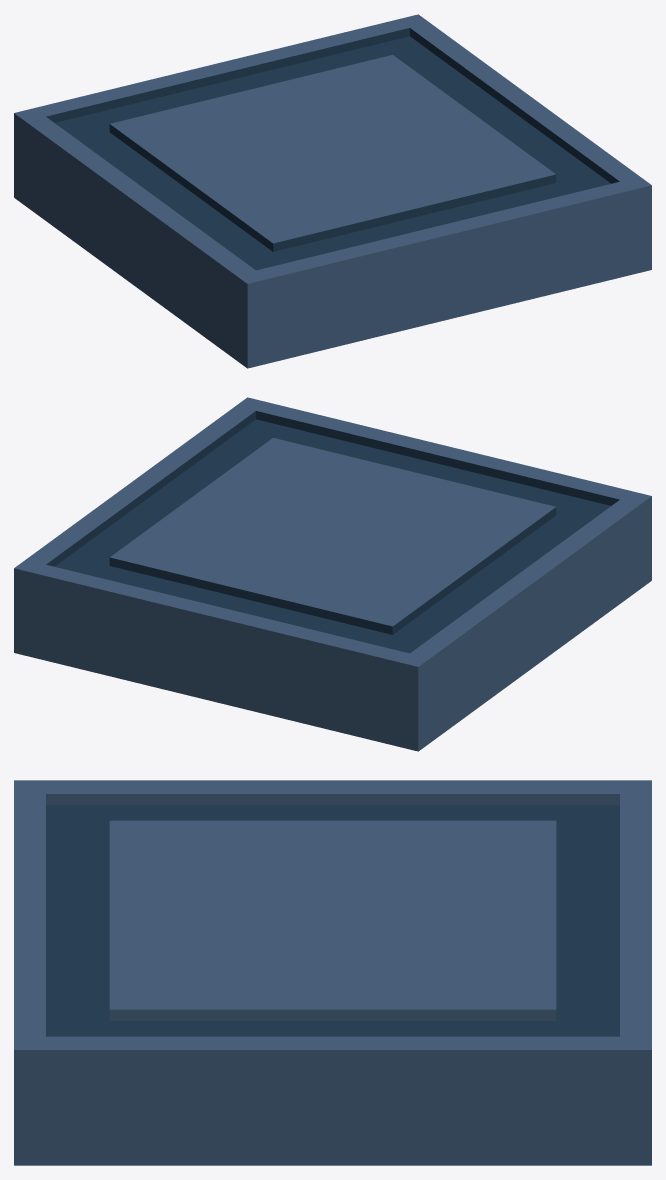
The model's file is tilegrounddeux.fbx.
The picture shows the model from 3 angles, top to bottom: view 1: azimuth 30°, elevation 25°; view 2: azimuth 150°, elevation 25°; view 3: azimuth 270°, elevation 25°; orthographic projection. The views are drawn at different scales.
Parts seen in each view (by area): view 1: Cube; view 2: Cube; view 3: Cube.
Boxes of the visible parts, x1,y1,x2,y2 form: Cube: (14,14,651,368); Cube: (14,397,651,751); Cube: (14,780,651,1165).
Bounding box in the file's own units: 100 × 20 × 100.
